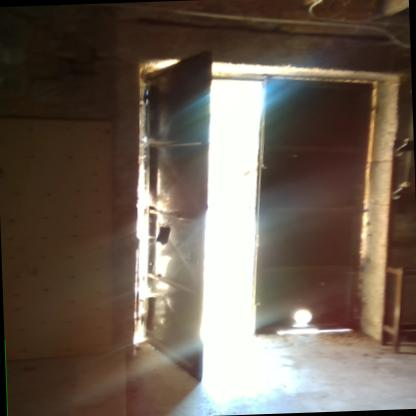semi: (122, 33, 410, 367)
